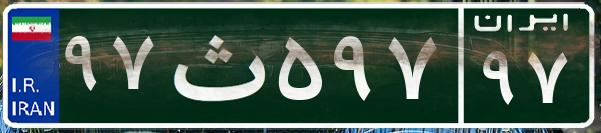5: (273, 28, 330, 110)
7: (385, 28, 445, 110), (110, 28, 158, 105), (525, 38, 570, 115)
9: (330, 28, 385, 110), (57, 26, 110, 107), (475, 38, 525, 113)
ث: (158, 15, 273, 115)
